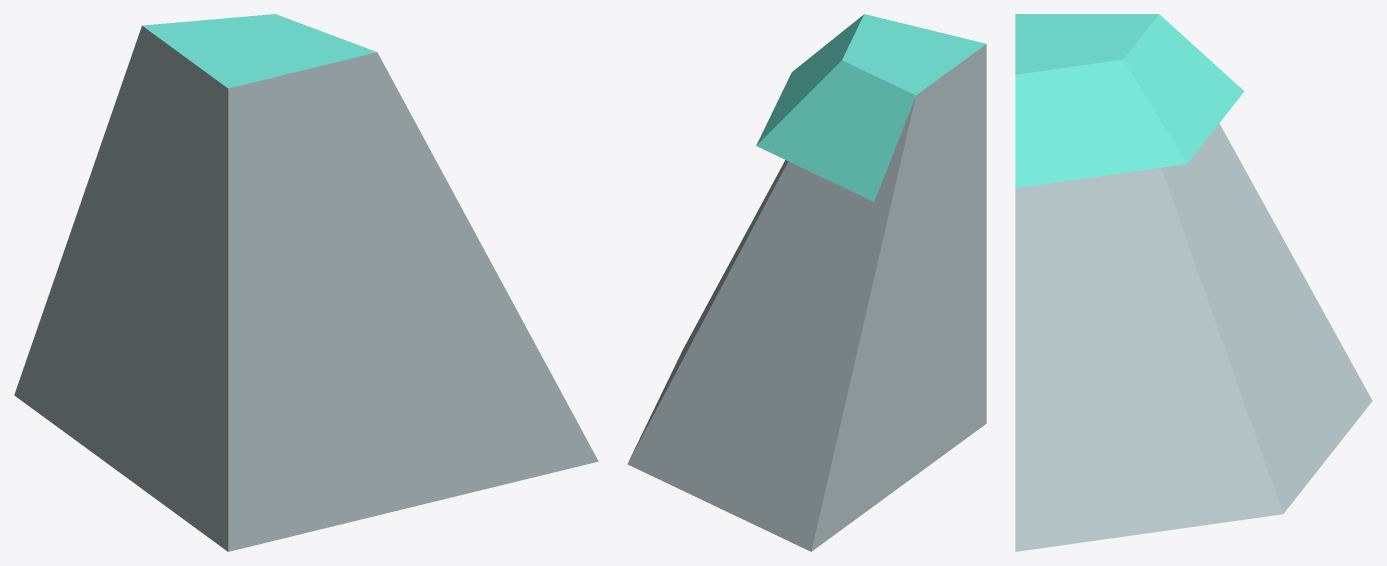
Rendered from cliff_halfCorner_stone.glb.
The picture shows the model from 3 angles, left to right: view 1: azimuth 30°, elevation 25°; view 2: azimuth 150°, elevation 25°; view 3: azimuth 270°, elevation 25°; orthographic projection. The views are drawn at different scales.
Parts seen in each view (by area): view 1: cliff_halfCorner_stone; view 2: cliff_halfCorner_stone; view 3: cliff_halfCorner_stone.
Part boxes in pixels (x1=…): cliff_halfCorner_stone: x1=14, y1=14, x2=598, y2=551; cliff_halfCorner_stone: x1=627, y1=14, x2=986, y2=551; cliff_halfCorner_stone: x1=1015, y1=14, x2=1372, y2=551.
Bounding box in the file's own units: 0.4185 × 0.5 × 0.4185.
